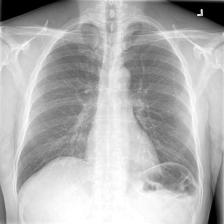normal: (12, 15, 206, 205)
